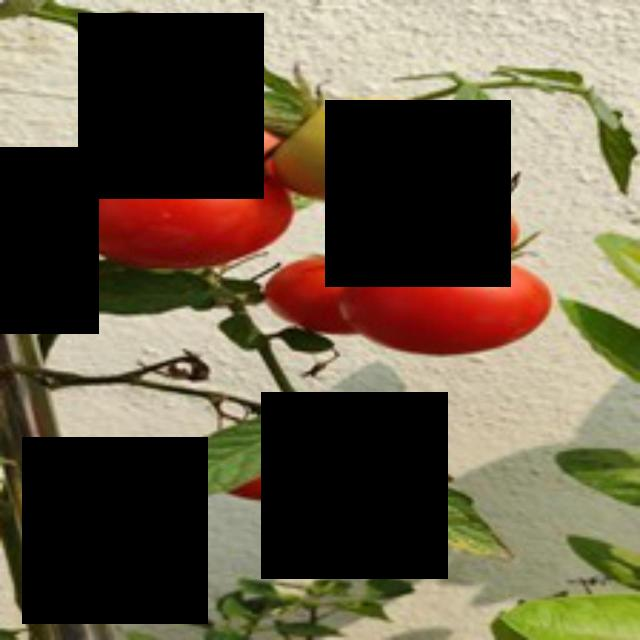tomato: (44, 136, 309, 275), (342, 244, 562, 366)
